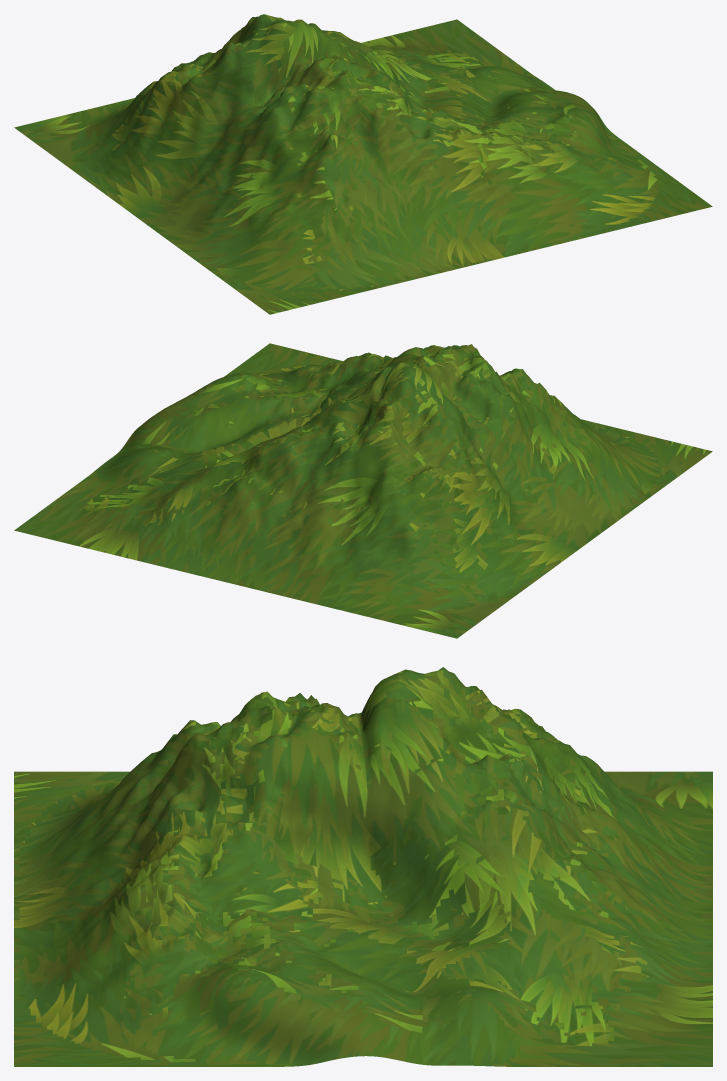
The model's file is teste.fbx.
3 views of the same model, one above another, from view 1: azimuth 30°, elevation 25°; view 2: azimuth 150°, elevation 25°; view 3: azimuth 270°, elevation 25° (orthographic). The views are drawn at different scales.
Parts seen in each view (by area): view 1: Landscape; view 2: Landscape; view 3: Landscape.
Part boxes in pixels (x1,y1,x2,y2): Landscape: (14, 14, 712, 314); Landscape: (14, 343, 712, 638); Landscape: (14, 667, 712, 1066).
Size of the model in its own units: 201 by 64.84 by 200.
